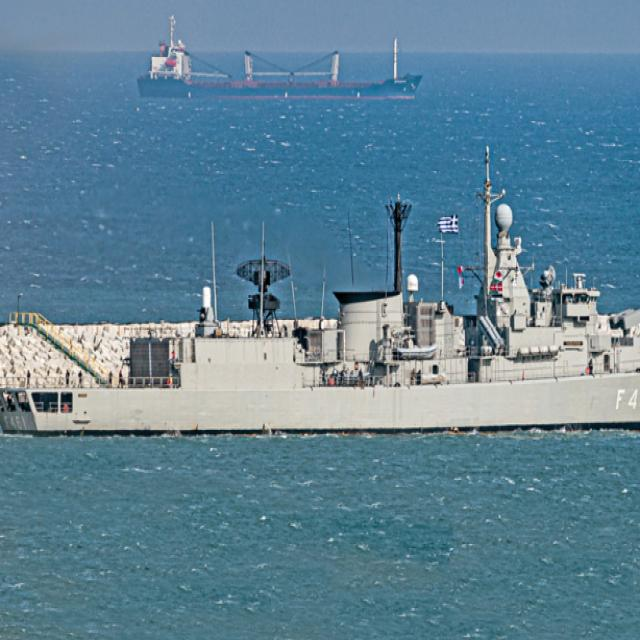Fragata: (1, 135, 640, 448)
